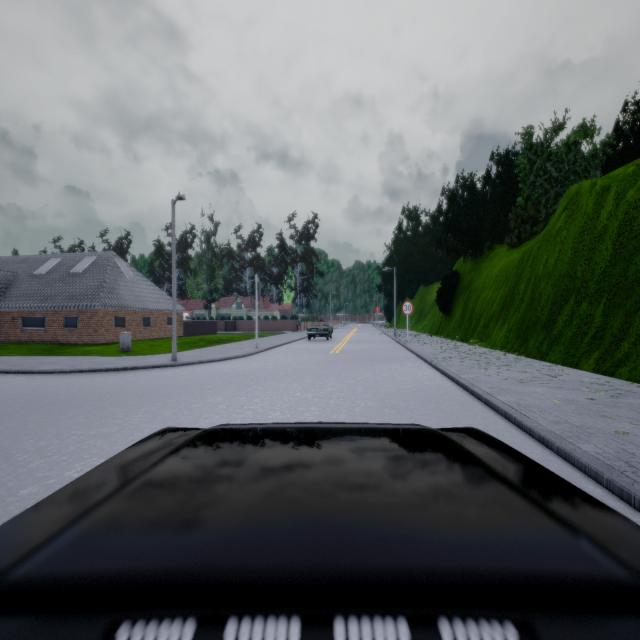Speed Limit -30-: (402, 301, 413, 315)
